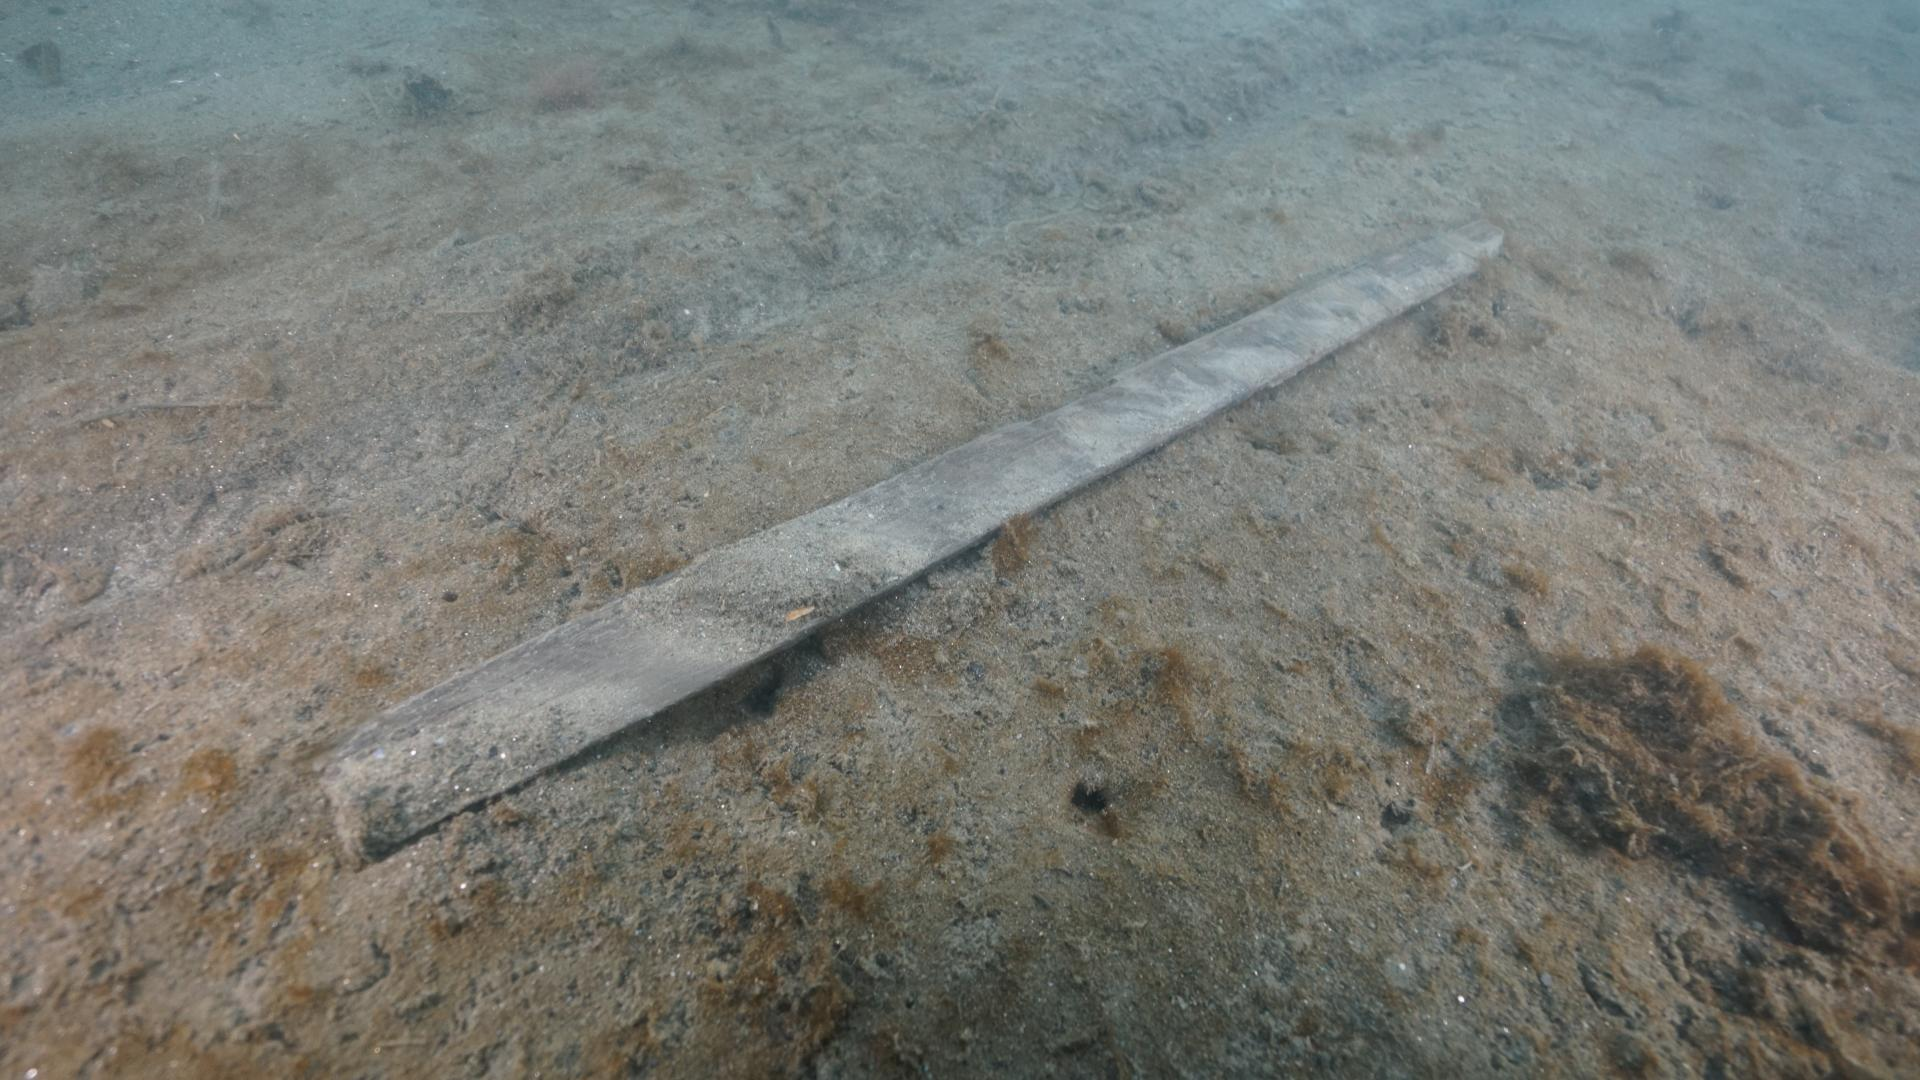wood: (311, 206, 1513, 870)
